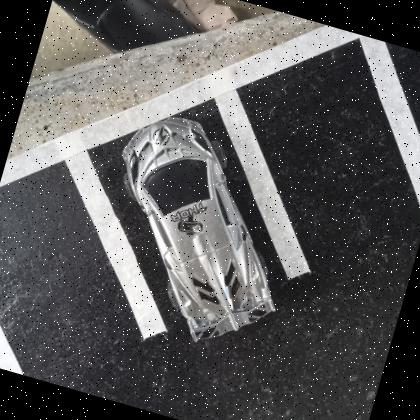Car: (122, 117, 273, 342)
